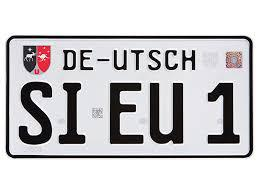1: (203, 77, 244, 148)
C: (164, 49, 179, 70)
D: (62, 49, 77, 71)
E: (104, 78, 145, 146), (79, 49, 94, 71)
H: (179, 48, 197, 70)
I: (55, 79, 88, 147)
S: (16, 81, 55, 149), (147, 48, 162, 71)
T: (128, 49, 145, 71)
U: (145, 81, 187, 146), (114, 49, 129, 70)
